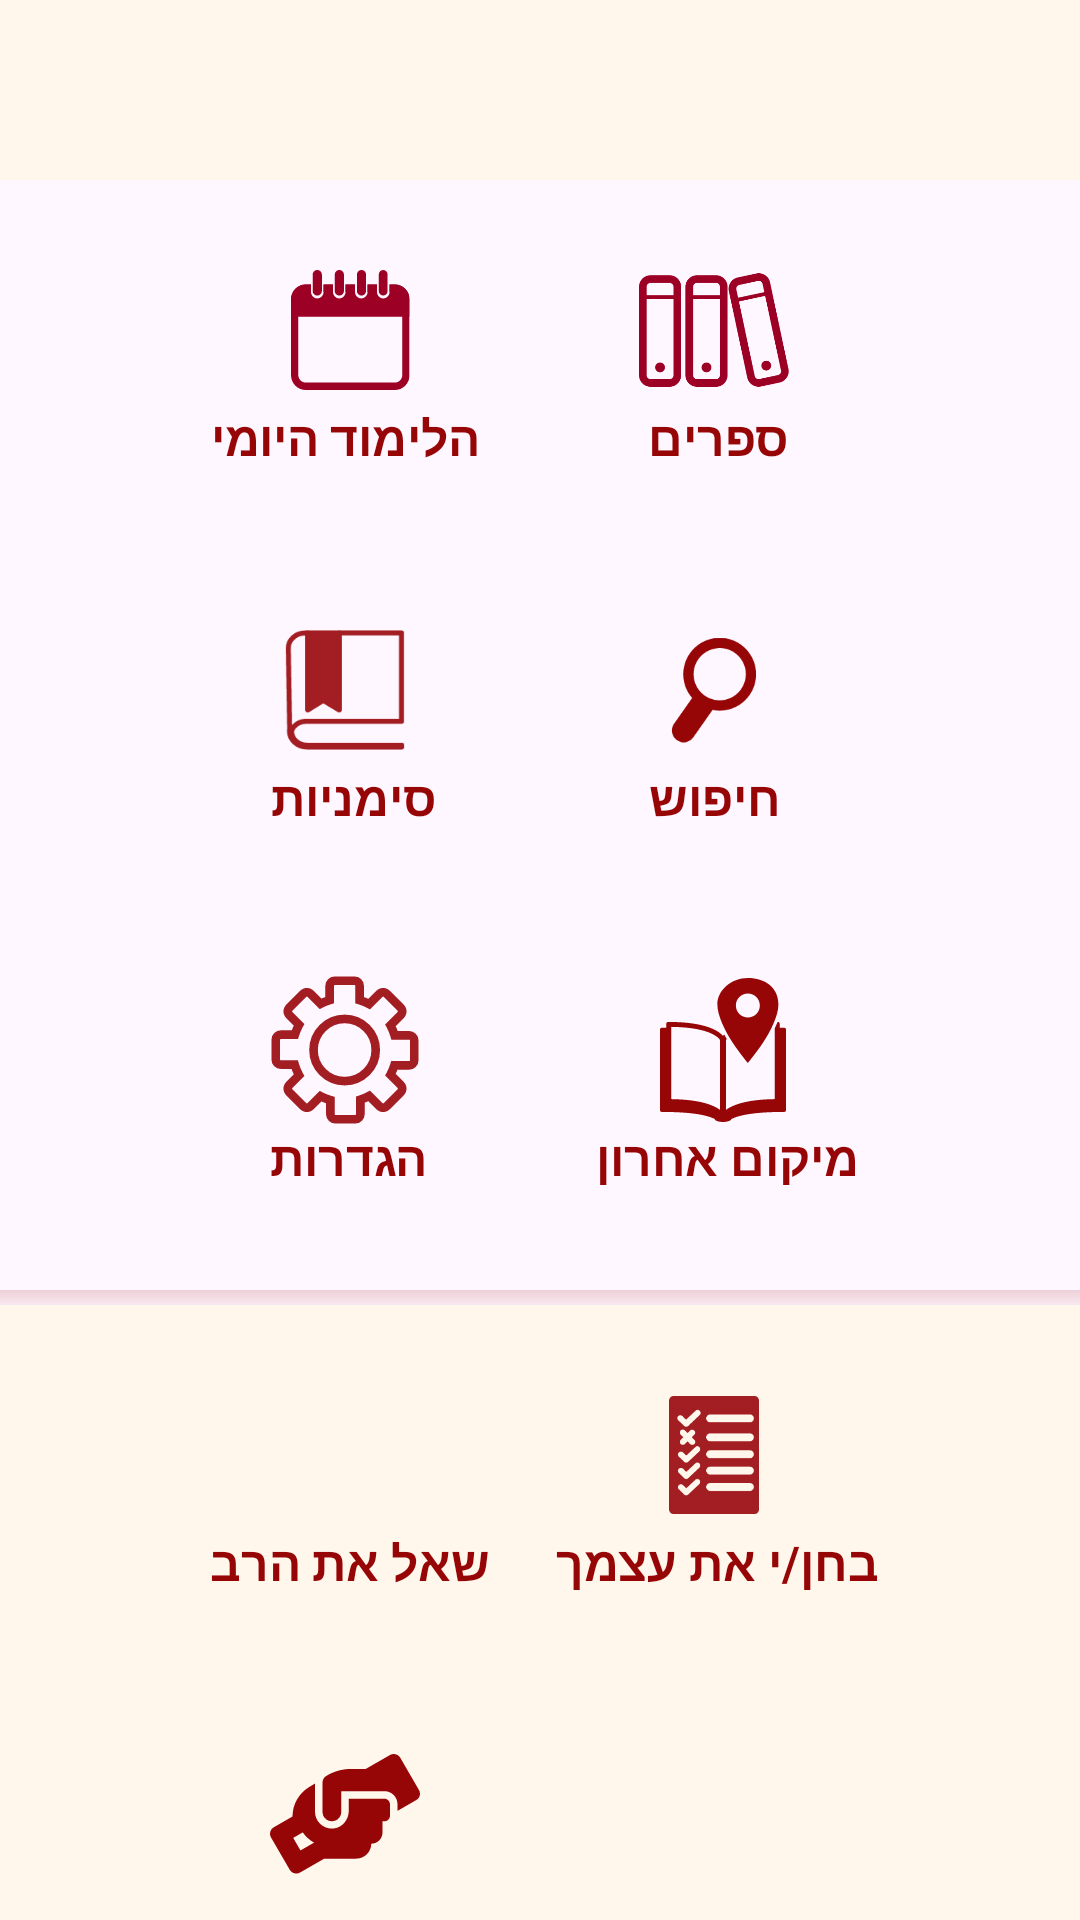

Named icons in this screenshot (1080w x 1920h) and their centers, (x=x, y=y):
donate: (x=345, y=1814)
